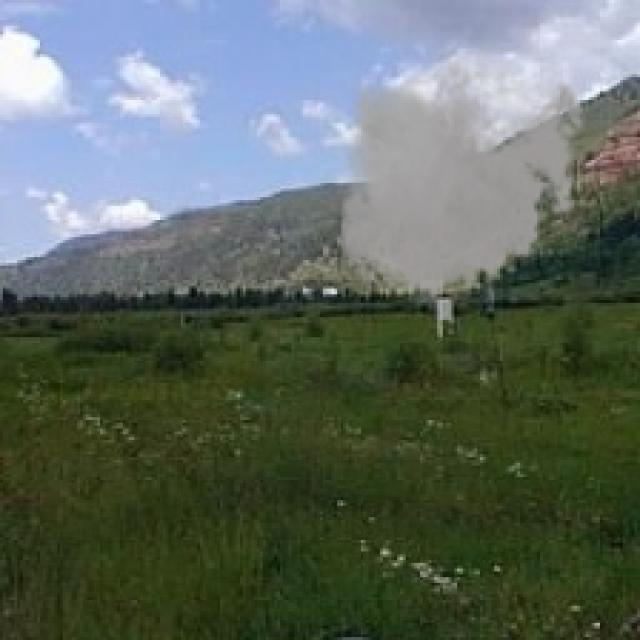Smoke: (328, 37, 592, 314)
